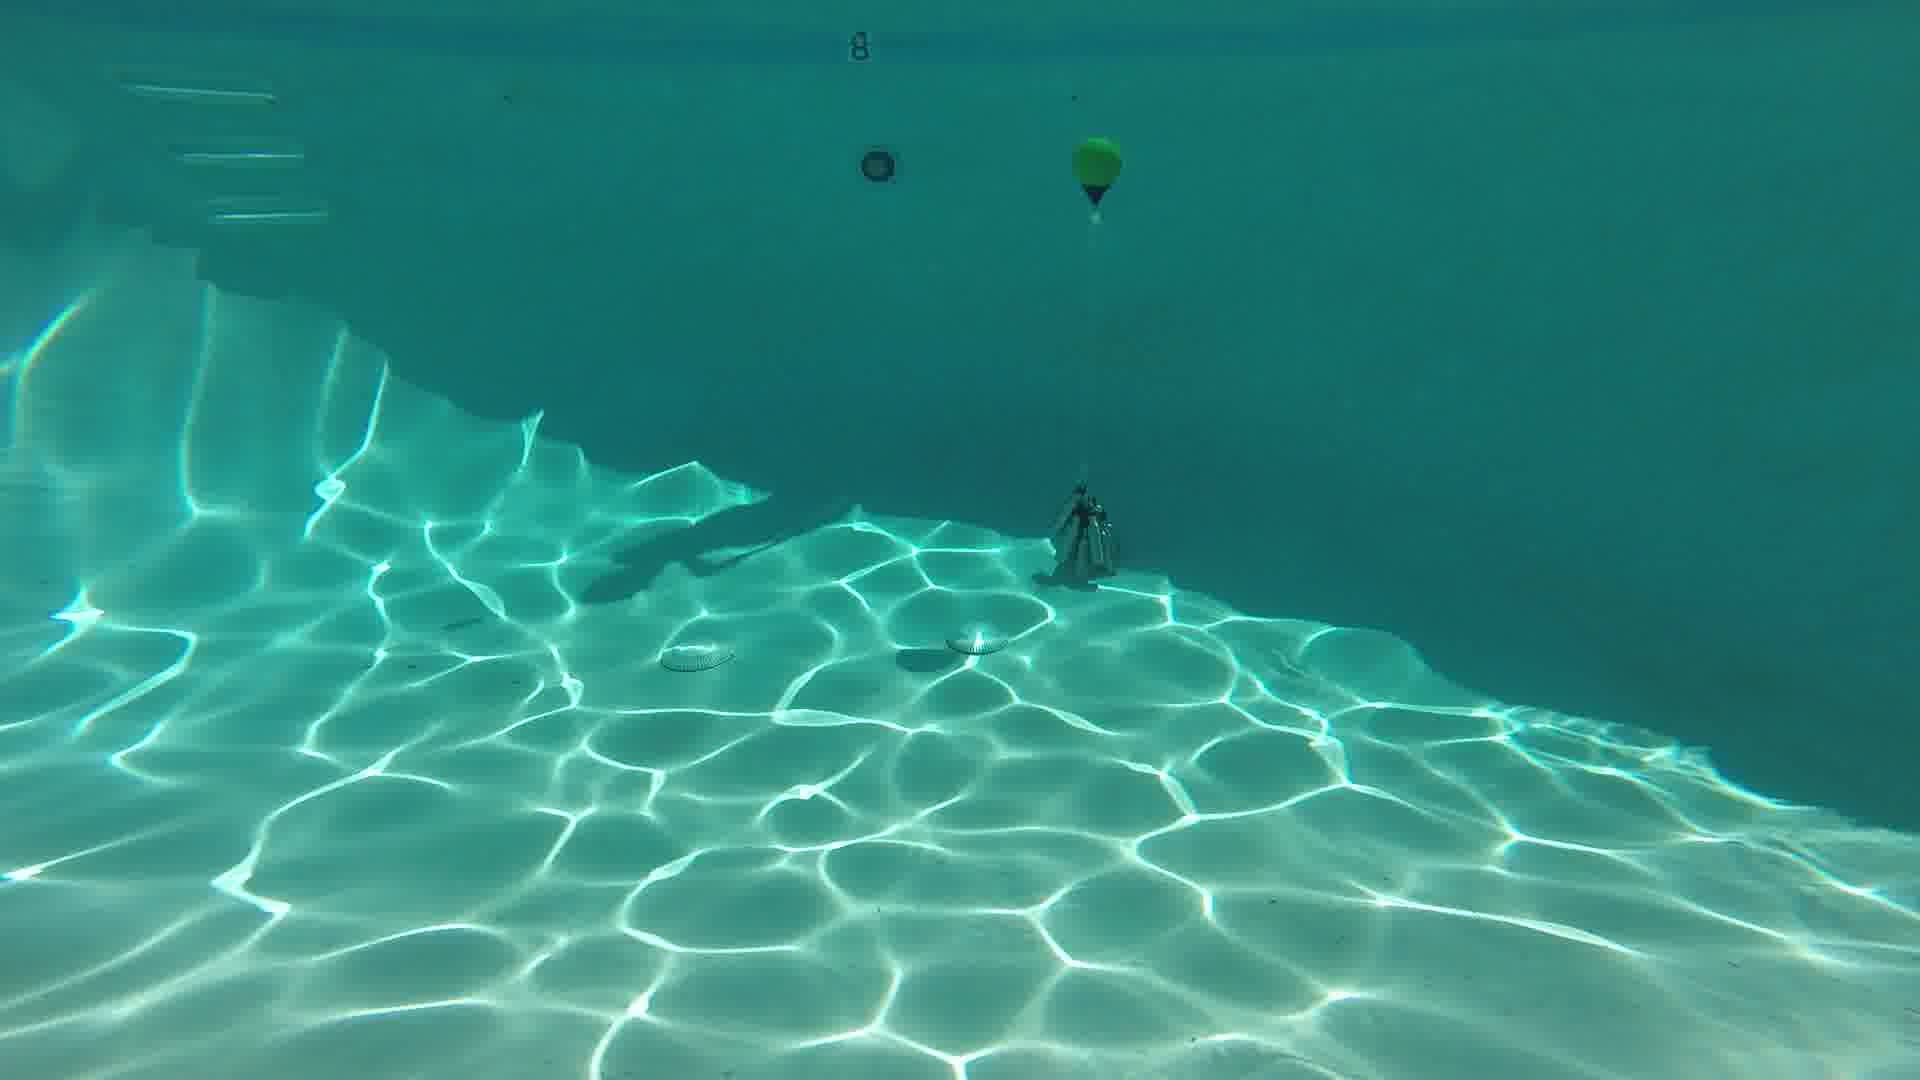yellow_buoy: (1071, 138, 1122, 210)
